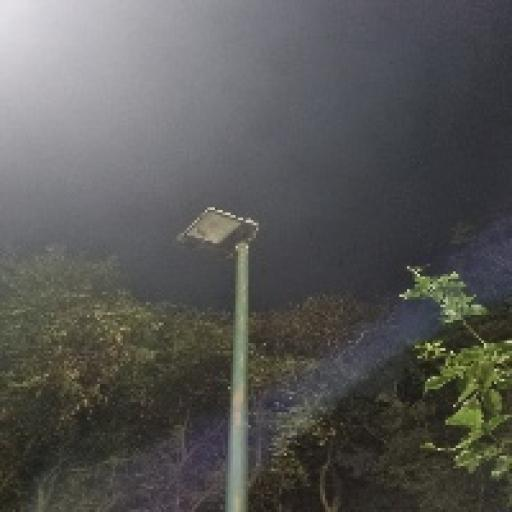Not Working: (162, 194, 270, 272)
